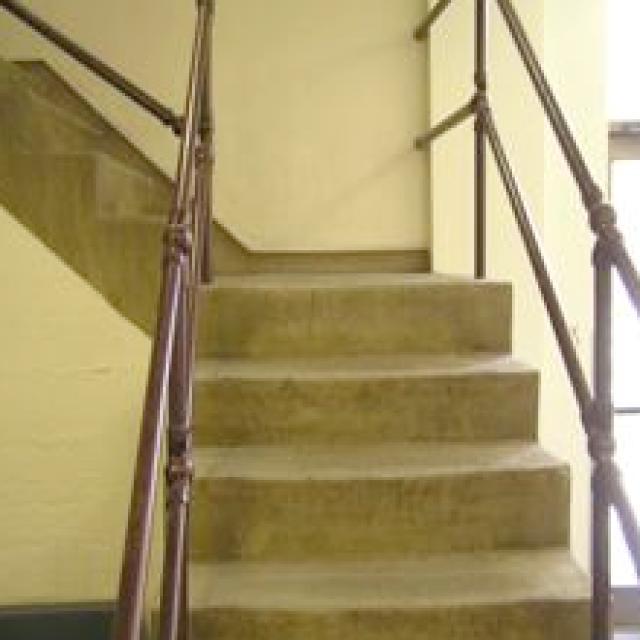upstair: (155, 254, 609, 510)
